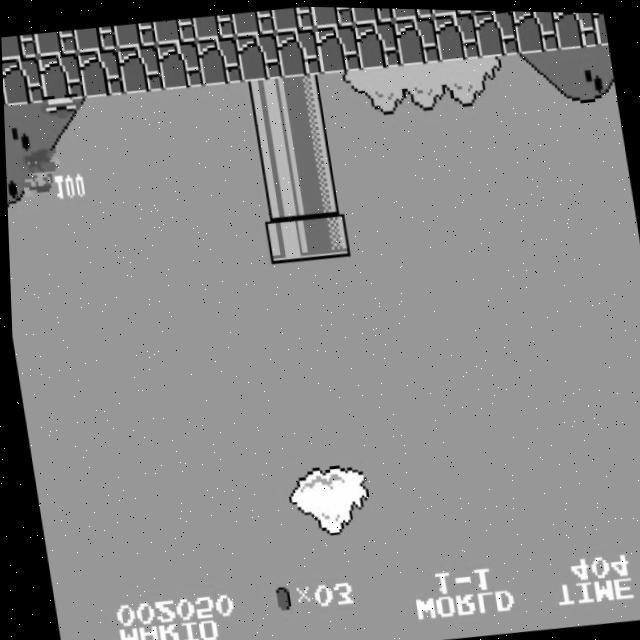11- little_mario: (14, 146, 64, 201)
14- pipe: (248, 121, 296, 173), (255, 167, 303, 218), (288, 116, 335, 168), (281, 71, 328, 123), (242, 76, 289, 127), (295, 163, 342, 214)
15- pipe_head: (262, 212, 310, 264), (302, 208, 349, 259)
17- undestructible_block: (76, 46, 124, 98), (274, 26, 322, 78), (313, 21, 361, 73), (353, 17, 401, 69), (116, 42, 163, 94), (156, 38, 203, 90), (195, 34, 242, 86), (393, 13, 440, 65), (433, 9, 480, 61), (37, 51, 84, 102), (235, 30, 282, 81), (472, 8, 519, 56), (2, 55, 44, 107), (511, 9, 558, 52), (551, 10, 598, 47), (73, 24, 117, 53), (192, 12, 236, 41), (113, 20, 156, 49), (33, 29, 77, 57), (152, 16, 196, 44), (231, 8, 275, 36), (271, 5, 315, 31), (1, 32, 38, 61), (310, 5, 354, 27), (350, 6, 393, 24), (590, 10, 608, 44), (390, 7, 433, 20), (429, 7, 472, 15)
